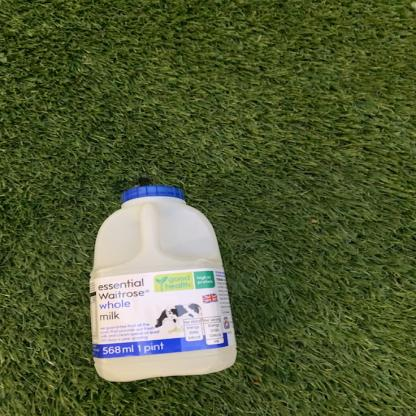trash: (87, 184, 244, 385)
